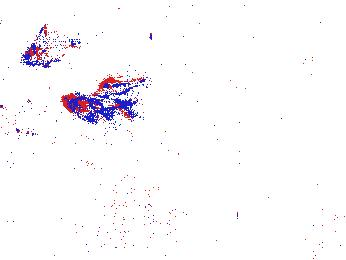X-ray fish: (19, 27, 82, 66)
red belly glassfish: (68, 93, 132, 114), (99, 74, 145, 94)
